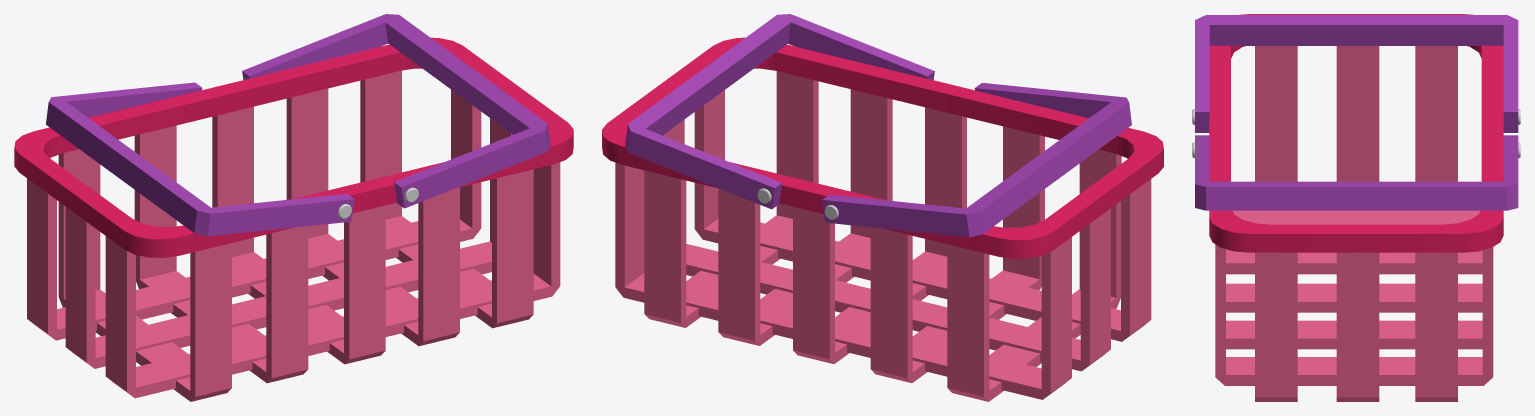
File: Basket_4.fbx
The picture shows the model from 3 angles, left to right: view 1: azimuth 30°, elevation 25°; view 2: azimuth 150°, elevation 25°; view 3: azimuth 270°, elevation 25°; orthographic projection.
Parts seen in each view (by area): view 1: Basket_4; view 2: Basket_4; view 3: Basket_4.
Part boxes in pixels (x1,y1,x2,y2): Basket_4: [14, 14, 573, 401]; Basket_4: [602, 14, 1163, 401]; Basket_4: [1192, 14, 1520, 401].
Size of the model in its own units: 31.11 by 13.43 by 19.63.
Materials: 1 (1 with a texture image).
